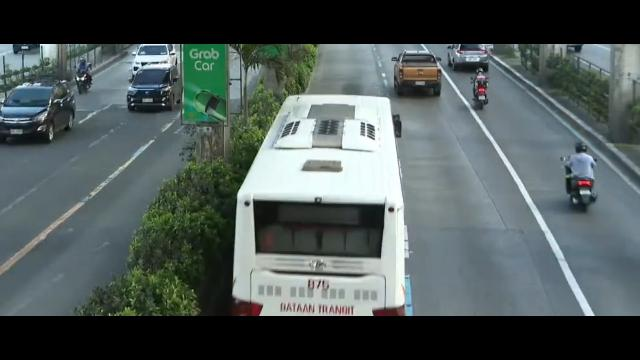bus: (232, 94, 405, 315)
car: (0, 78, 75, 142), (127, 66, 184, 114), (131, 42, 178, 73), (449, 42, 490, 71)
motorcycle: (564, 138, 597, 211), (472, 66, 491, 110), (74, 57, 94, 96)
pickup-truck: (392, 50, 442, 96)
